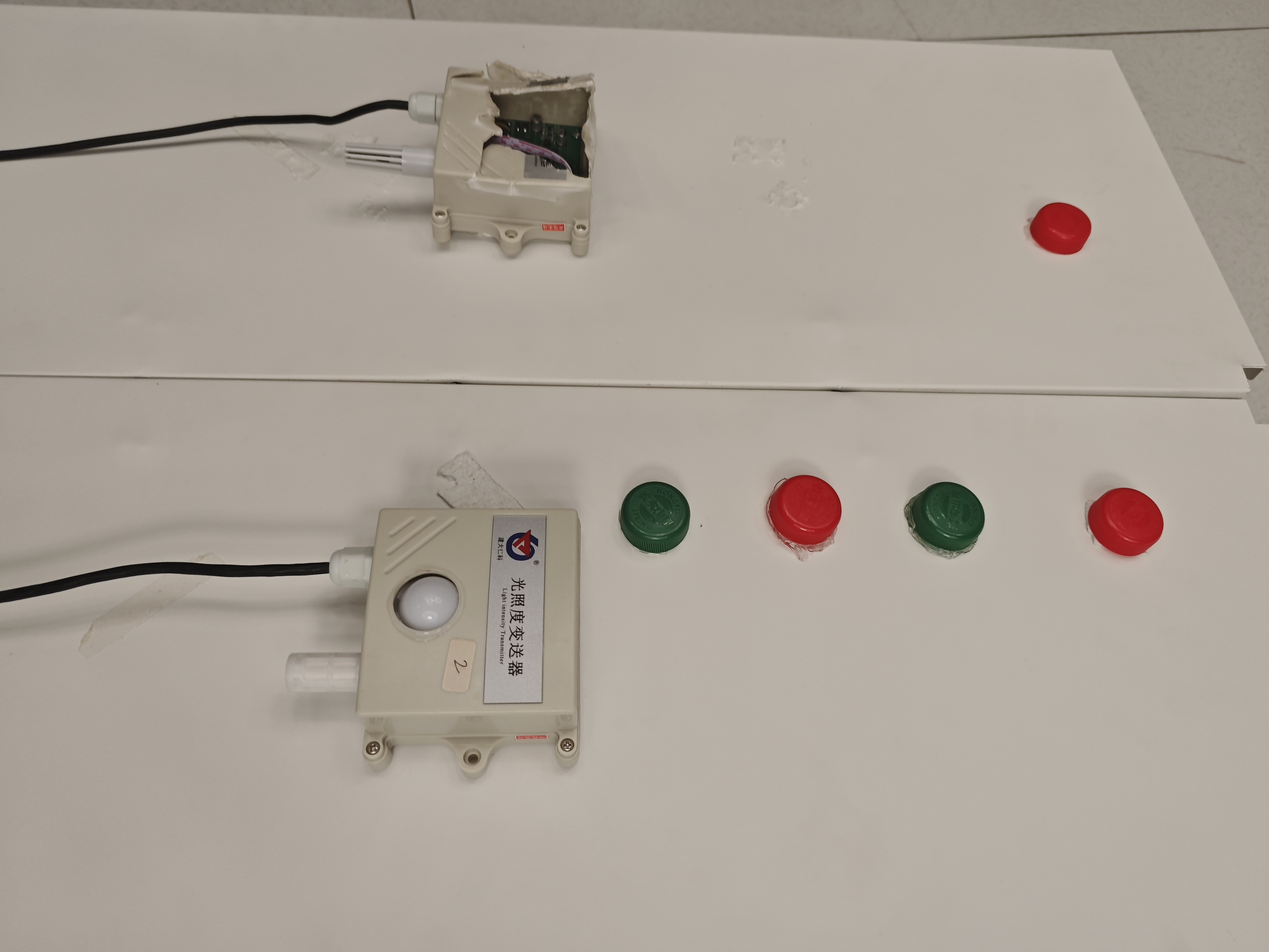red_warning: (725, 449, 877, 560), (997, 189, 1144, 303), (1073, 465, 1195, 579)
sensor_damage: (321, 39, 656, 276)
